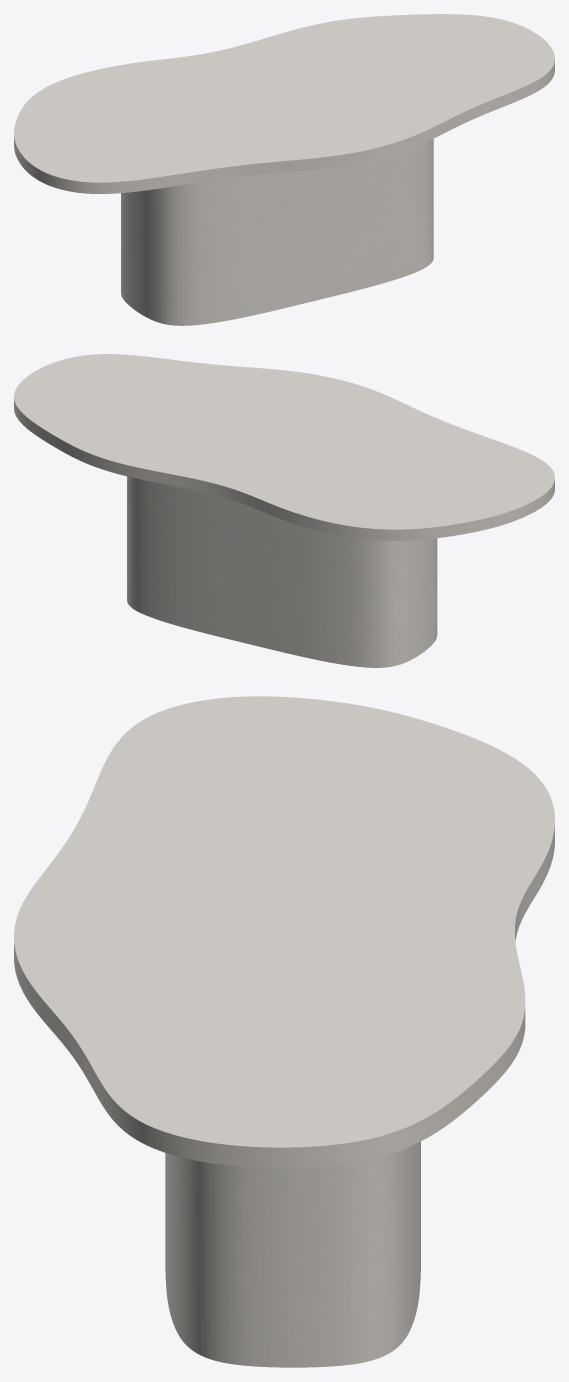
Rendered from pearlwhite_toplast_standard_fixed.glb.
3 views of the same model, one above another, from view 1: azimuth 30°, elevation 25°; view 2: azimuth 150°, elevation 25°; view 3: azimuth 270°, elevation 25° (orthographic). The views are drawn at different scales.
Visible parts, largest first — view 1: standard_toplast, fixed; view 2: standard_toplast, fixed; view 3: standard_toplast, fixed.
Part boxes in pixels (left/top/right/bottom): standard_toplast: left=14, top=14, right=554, bottom=193; fixed: left=121, top=139, right=433, bottom=325; standard_toplast: left=14, top=354, right=554, bottom=540; fixed: left=127, top=476, right=437, bottom=667; standard_toplast: left=14, top=696, right=554, bottom=1168; fixed: left=165, top=1141, right=420, bottom=1367.
Bounding box in the file's own units: 7.5 × 2.5 × 3.8.
Materials: 1 (1 with a texture image).
